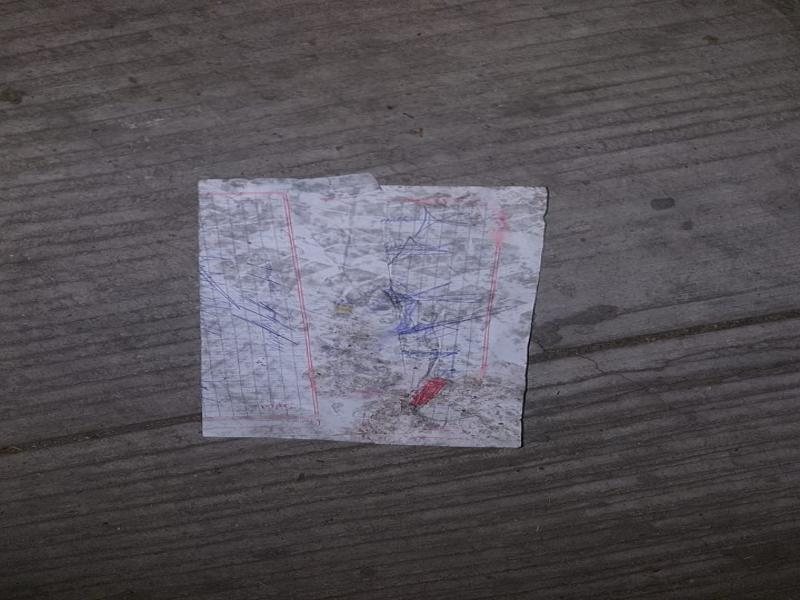papel: (196, 172, 547, 449)
